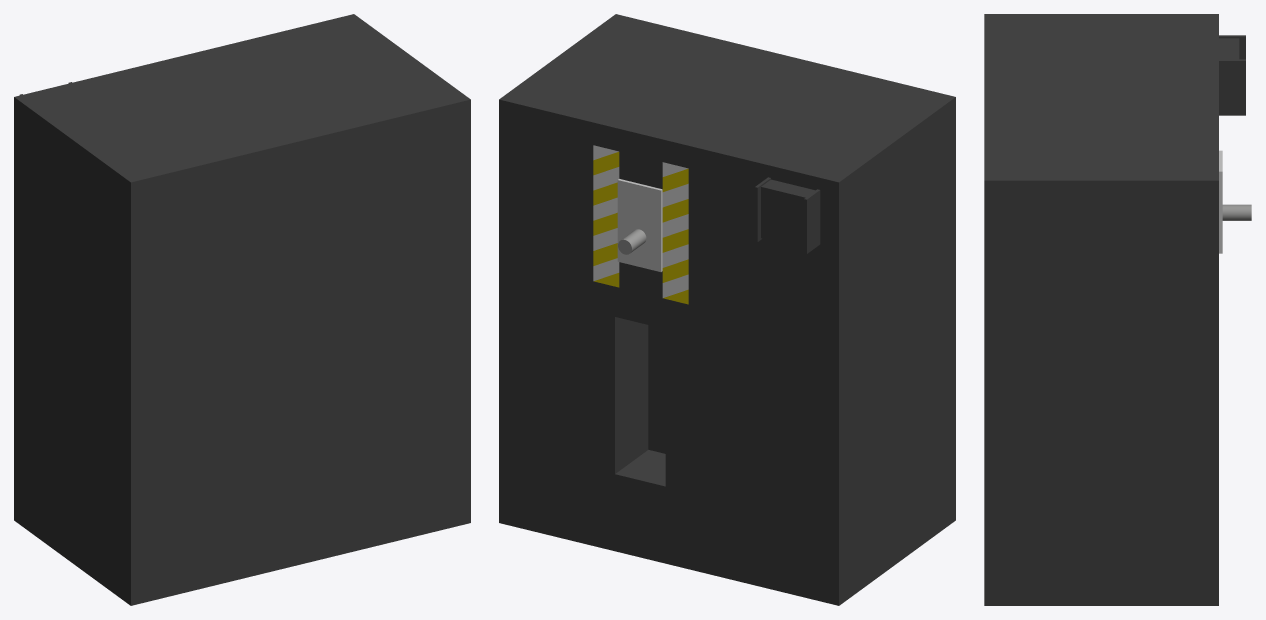
The model's file is hcp-box.fbx.
3 views of the same model, side by side, from view 1: azimuth 30°, elevation 25°; view 2: azimuth 150°, elevation 25°; view 3: azimuth 270°, elevation 25° (orthographic).
Visible parts, largest first — view 1: Group1; view 2: Group1; view 3: Group1.
Part boxes in pixels (left/top/right/bottom): Group1: left=14, top=14, right=470, bottom=605; Group1: left=499, top=14, right=955, bottom=605; Group1: left=984, top=14, right=1251, bottom=605.
Bounding box in the file's own units: 11.76 × 14 × 7.96.
